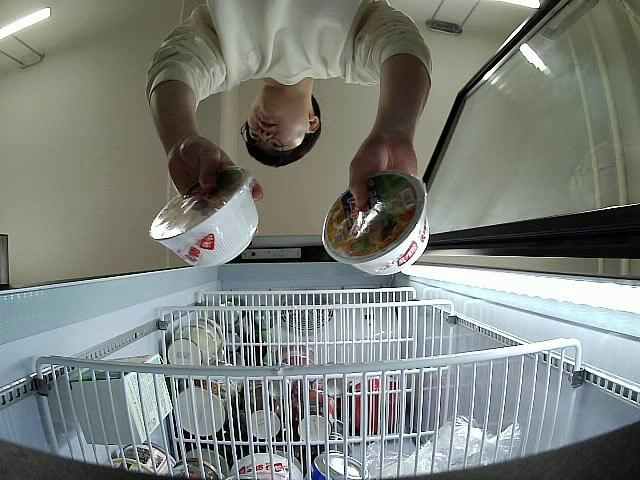00_hand: (165, 136, 263, 203), (350, 134, 419, 209)
09_yukGaeJang: (322, 171, 431, 275), (150, 169, 261, 270)
